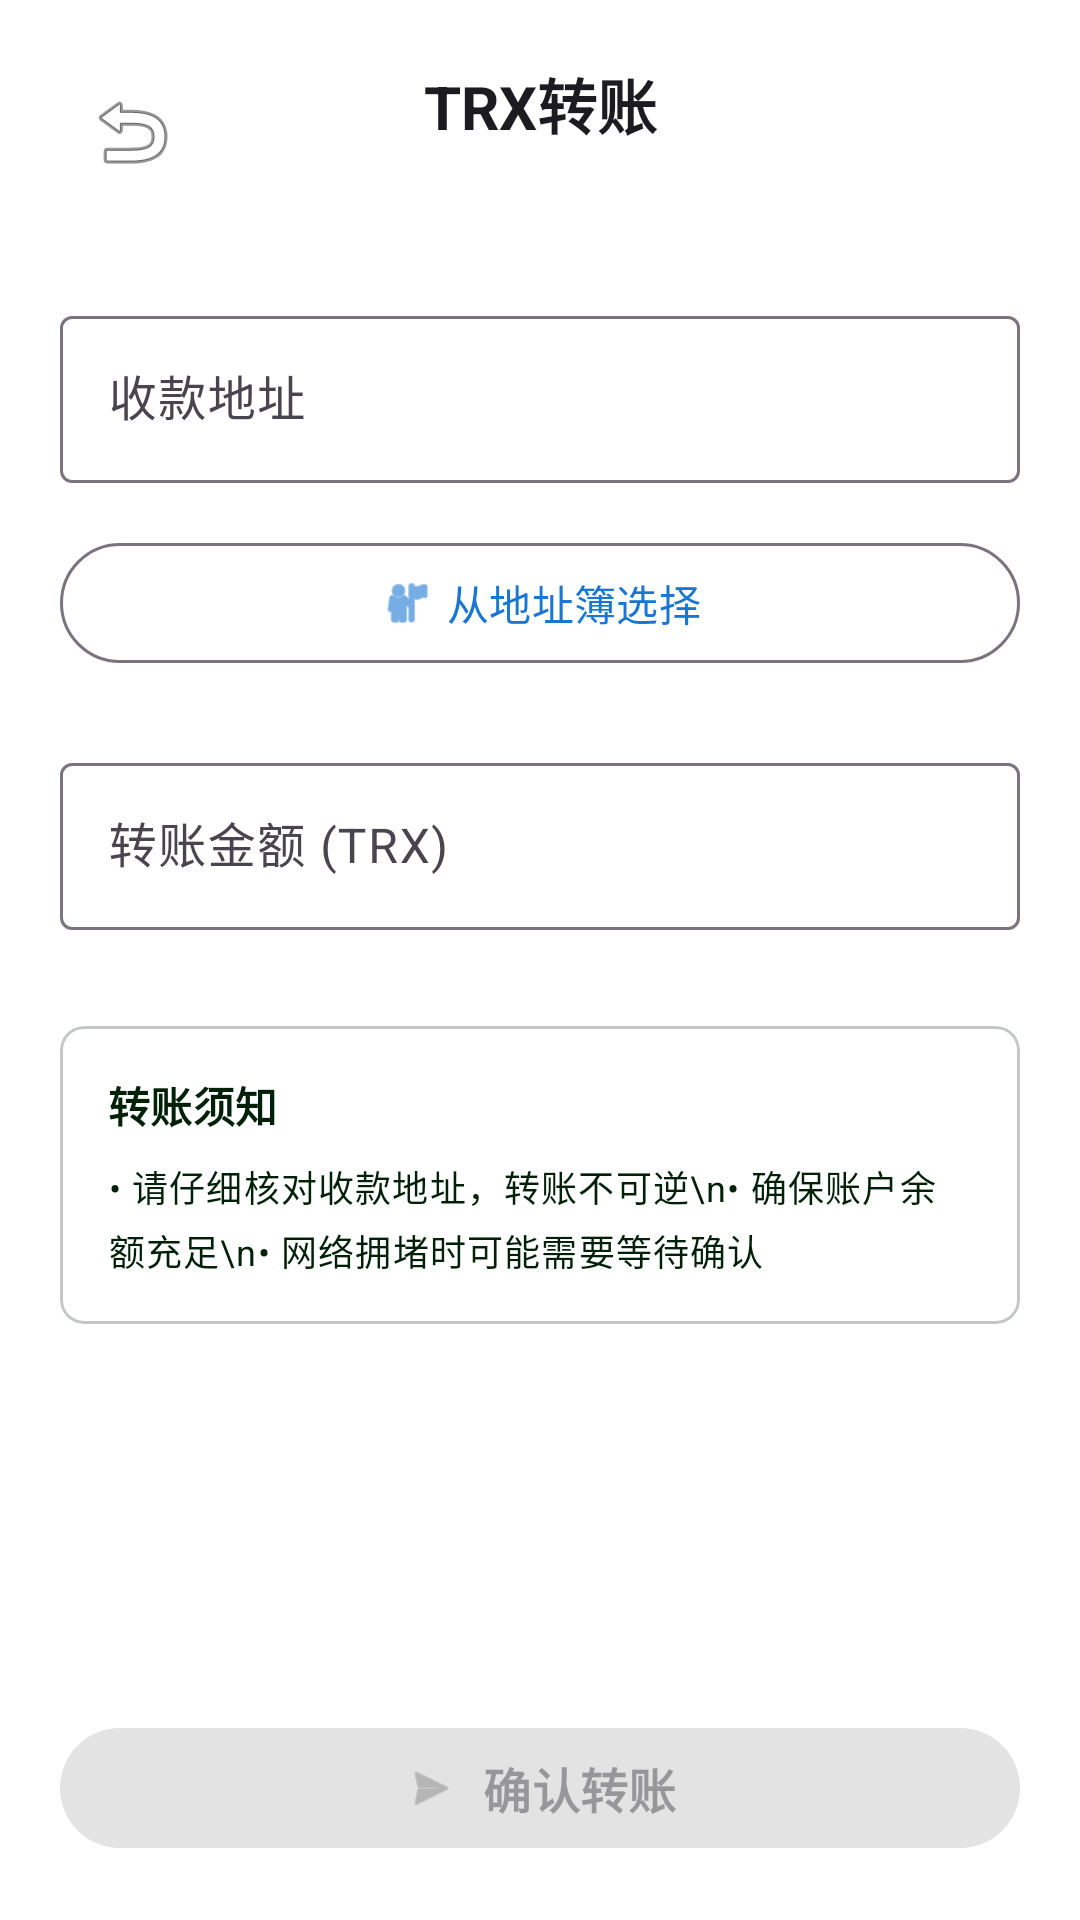

Where icons sit on this 1080*1920 app screen, as (x1, y1, x2, y2):
返回: (99, 101, 168, 164)
